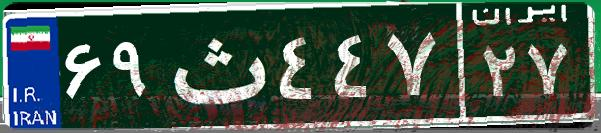2: (475, 38, 525, 113)
4: (273, 28, 330, 110), (330, 28, 385, 110)
6: (57, 26, 110, 107)
7: (385, 28, 445, 110), (525, 38, 570, 115)
9: (110, 28, 158, 105)
ث: (158, 15, 273, 115)
